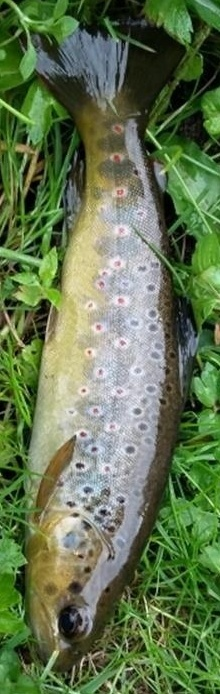Salmo trutta subsp. fario: (20, 20, 200, 674)
